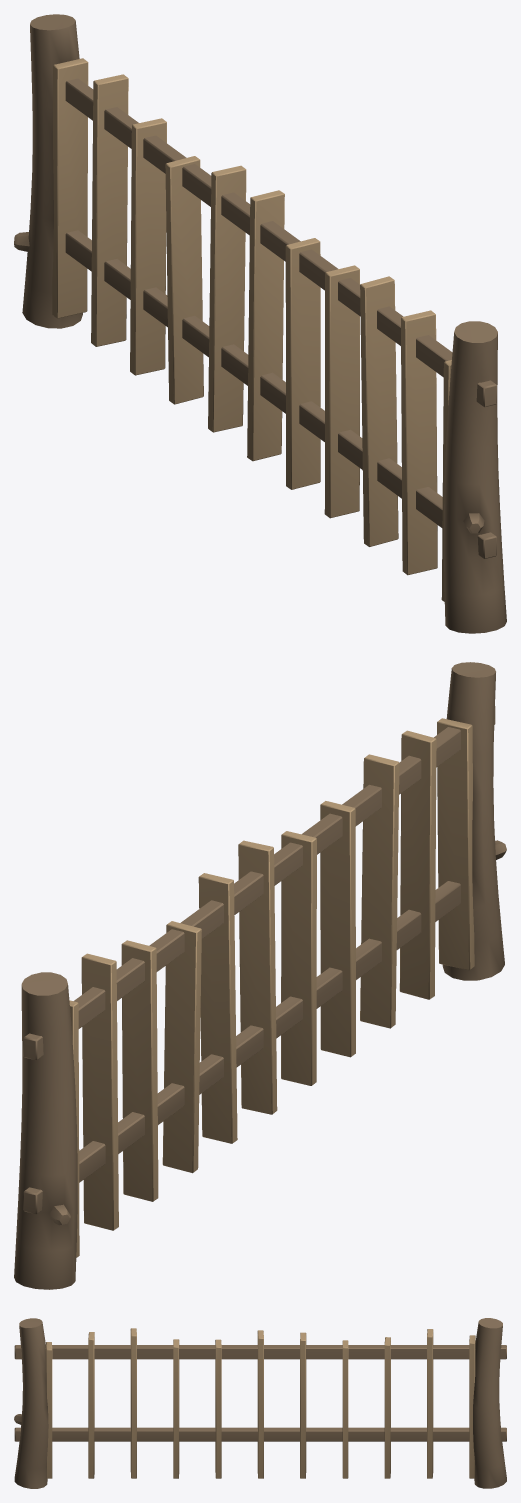
Rendered from berk_fence_4m.glb.
The picture shows the model from 3 angles, top to bottom: view 1: azimuth 30°, elevation 25°; view 2: azimuth 150°, elevation 25°; view 3: azimuth 270°, elevation 25°; orthographic projection. The views are drawn at different scales.
Visible parts, largest first — view 1: berk_fence_4m; view 2: berk_fence_4m; view 3: berk_fence_4m.
Boxes of the visible parts, x1=… form: berk_fence_4m: x1=14, y1=14, x2=506, y2=633; berk_fence_4m: x1=14, y1=662, x2=506, y2=1289; berk_fence_4m: x1=14, y1=1318, x2=506, y2=1488.
Size of the model in its own units: 0.3003 by 1.45 by 4.01.
